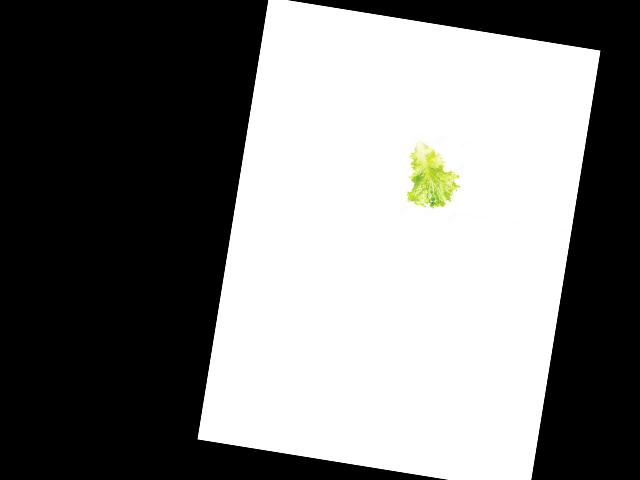lettuce: (404, 139, 465, 212)
